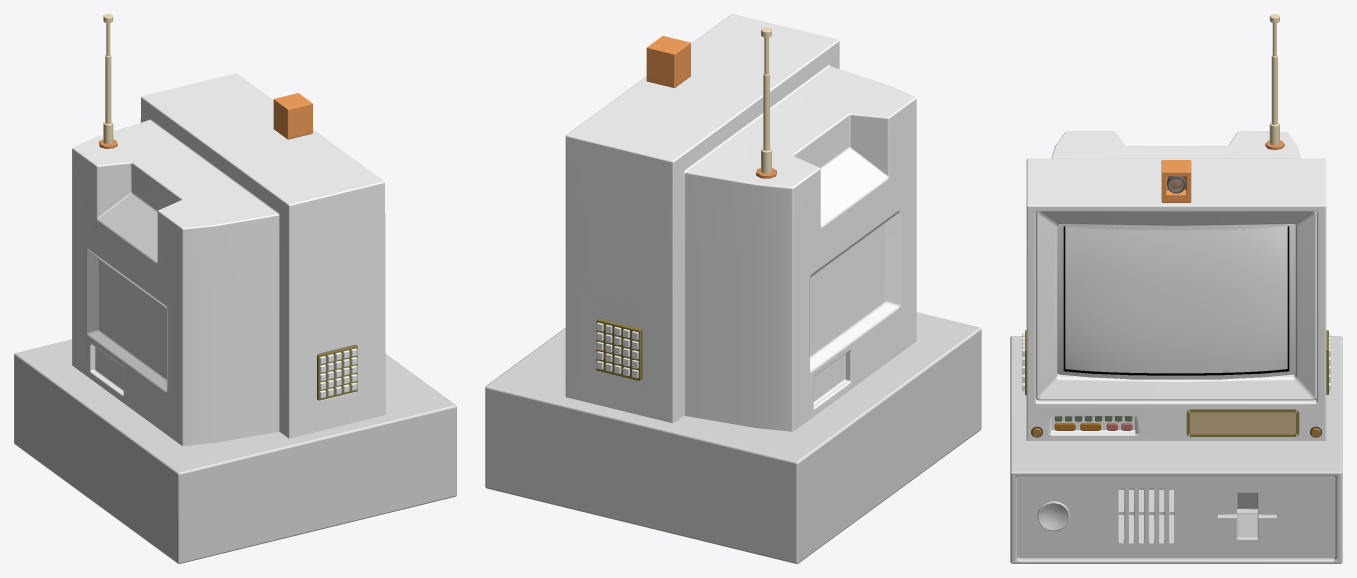
Rendered from PCMonitor_nib_v12 (2).fbx.
The picture shows the model from 3 angles, left to right: view 1: azimuth 30°, elevation 25°; view 2: azimuth 150°, elevation 25°; view 3: azimuth 270°, elevation 25°; orthographic projection. The views are drawn at different scales.
Visible parts, largest first — view 1: Monitor_shell.003, Base_shell, CompCamera, Monitor_shell_side_Buttons, Monitor_shell_side_plate.001; view 2: Monitor_shell.003, Base_shell, CompCamera, Monitor_shell_side_Buttons, Monitor_shell_side_plate; view 3: Screen, Monitor_shell.003, base_front, Base_shell, Screen_frame, Screen_rim, Monitor_shell_holes_front.004, CompCamera, Monitor_shell_holes_front.002, base_front.001, Antenna.004.
Part boxes in pixels (x1=…): Monitor_shell.003: x1=72, y1=73, x2=385, y2=445; Base_shell: x1=14, y1=339, x2=456, y2=563; CompCamera: x1=273, y1=93, x2=312, y2=139; Monitor_shell_side_Buttons: x1=319, y1=348, x2=357, y2=398; Monitor_shell_side_plate.001: x1=317, y1=345, x2=357, y2=400; Monitor_shell.003: x1=565, y1=14, x2=916, y2=431; Base_shell: x1=485, y1=312, x2=981, y2=563; CompCamera: x1=646, y1=36, x2=690, y2=88; Monitor_shell_side_Buttons: x1=596, y1=322, x2=638, y2=378; Monitor_shell_side_plate: x1=596, y1=319, x2=642, y2=381; Screen: x1=1063, y1=226, x2=1289, y2=375; Monitor_shell.003: x1=1026, y1=131, x2=1326, y2=440; base_front: x1=1017, y1=475, x2=1335, y2=558; Base_shell: x1=1010, y1=336, x2=1342, y2=563; Screen_frame: x1=1036, y1=211, x2=1316, y2=400; Screen_rim: x1=1057, y1=224, x2=1295, y2=379; Monitor_shell_holes_front.004: x1=1190, y1=412, x2=1295, y2=434; CompCamera: x1=1161, y1=160, x2=1191, y2=202; Monitor_shell_holes_front.002: x1=1186, y1=409, x2=1299, y2=436; base_front.001: x1=1037, y1=501, x2=1070, y2=531; Antenna.004: x1=1271, y1=55, x2=1277, y2=124.
Size of the model in its own units: 63.46 by 95.09 by 64.89.
